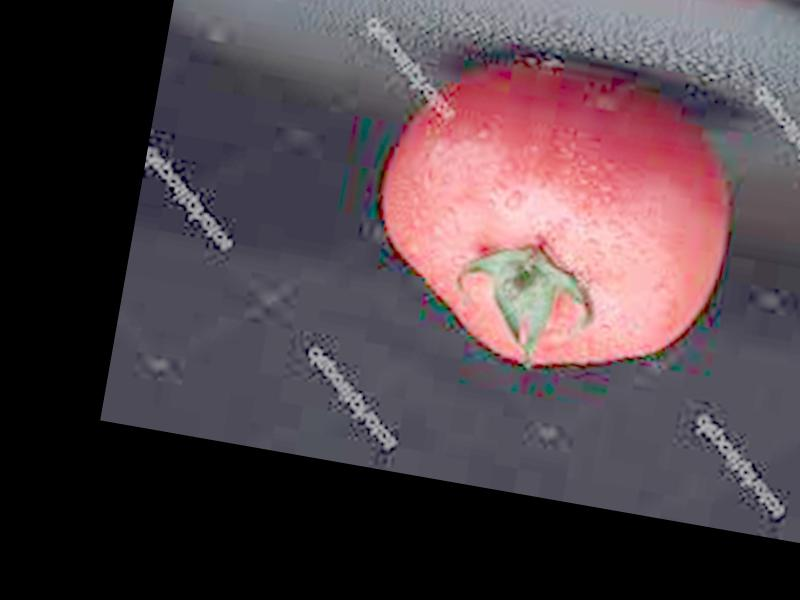Tomato: (356, 39, 752, 397)
